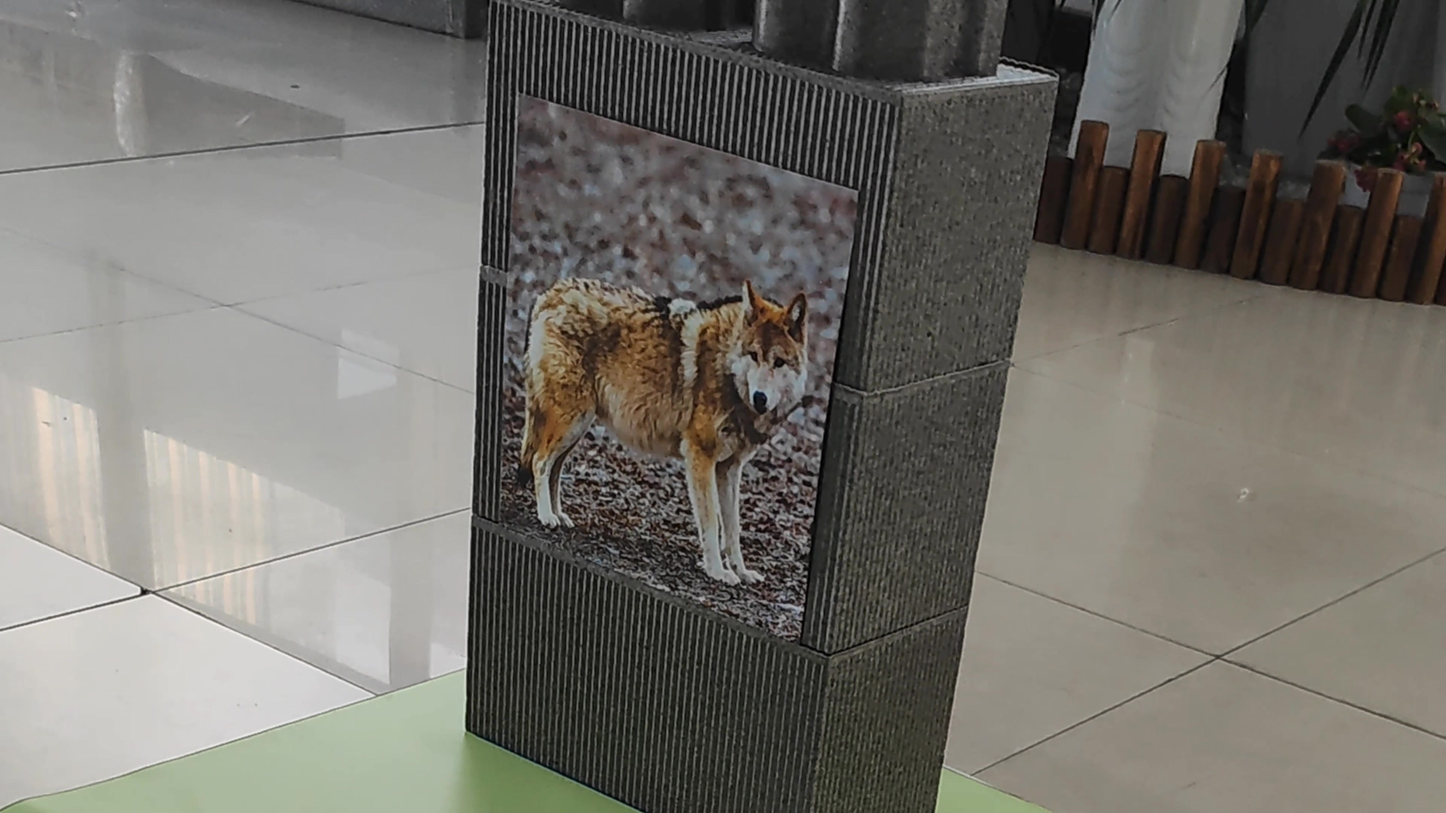wolf: (502, 239, 817, 611)
